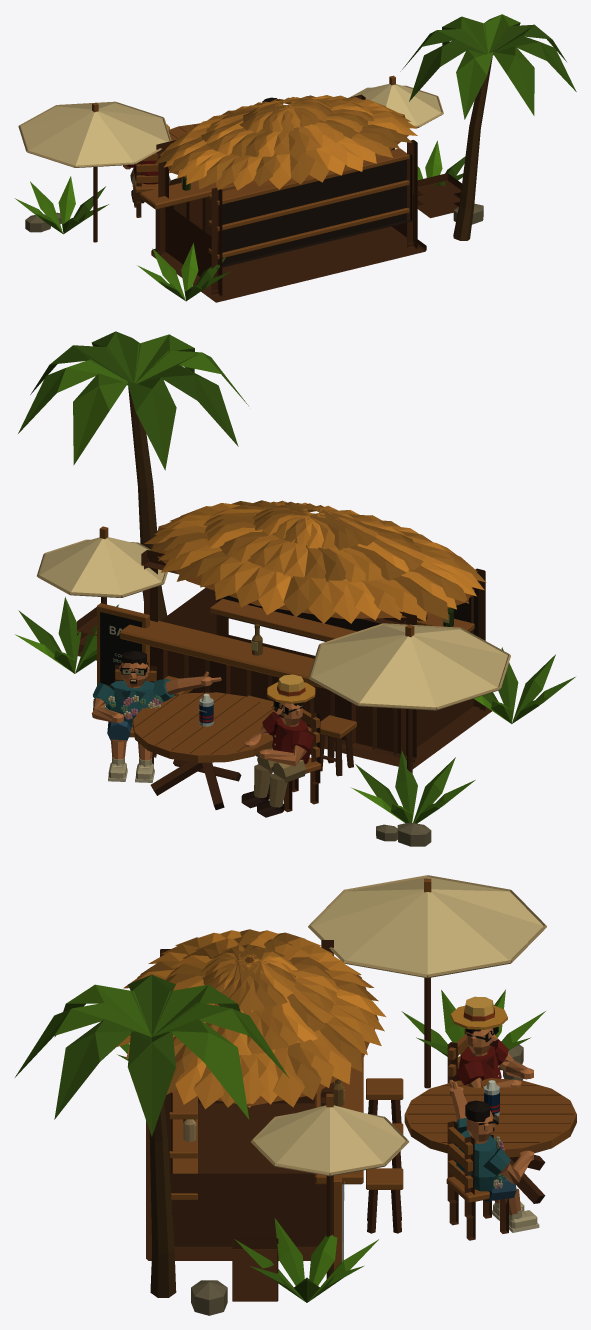
The model's file is SM_BeachBar.fbx.
3 renders of one model, top to bottom at view 1: azimuth 30°, elevation 25°; view 2: azimuth 150°, elevation 25°; view 3: azimuth 270°, elevation 25°, orthographic. The views are drawn at different scales.
Parts seen in each view (by area): view 1: SM_BeachBar • FBX; view 2: SM_BeachBar • FBX; view 3: SM_BeachBar • FBX.
Boxes of the visible parts, x1,y1,x2,y2 form: SM_BeachBar • FBX: (14, 14, 576, 302); SM_BeachBar • FBX: (15, 331, 575, 846); SM_BeachBar • FBX: (15, 875, 576, 1315).
Size of the model in its own units: 1358 by 980 by 585.
